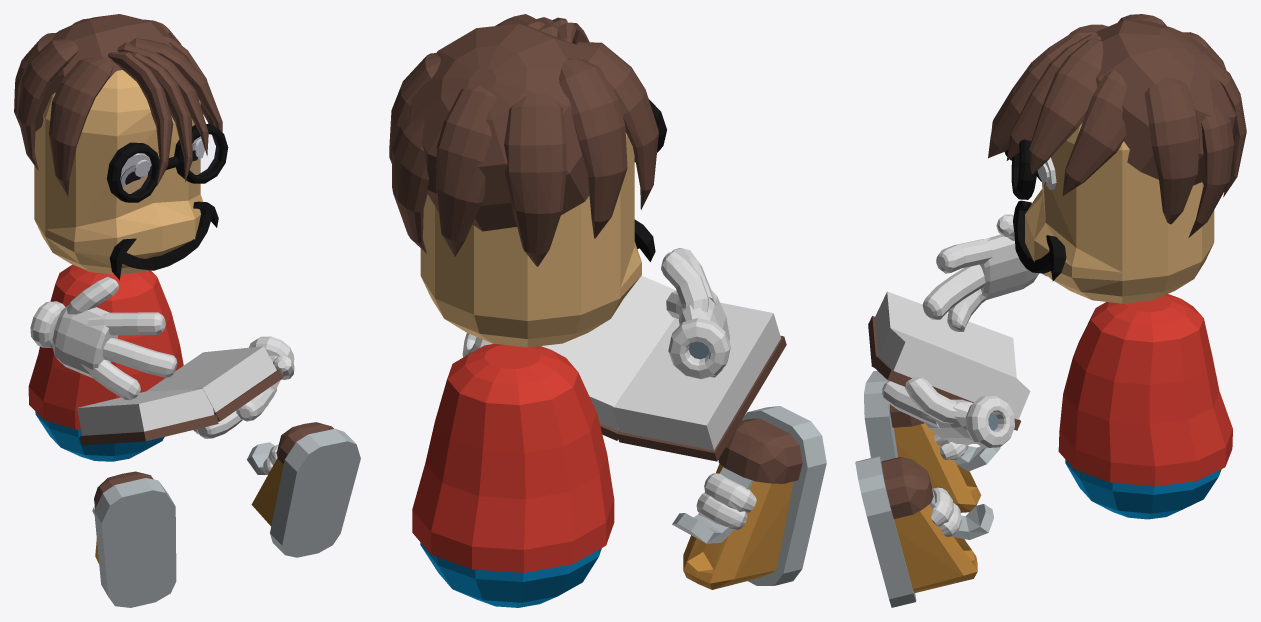
3 renders of one model, left to right at view 1: azimuth 30°, elevation 25°; view 2: azimuth 150°, elevation 25°; view 3: azimuth 270°, elevation 25°, orthographic. The views are drawn at different scales.
Visible parts, largest first — view 1: node_MeshObject475902592-PolyPaper20, node_MeshObject1513342720-PolyPaper20; view 2: node_MeshObject475902592-PolyPaper20, node_MeshObject1513342720-PolyPaper20; view 3: node_MeshObject475902592-PolyPaper20, node_MeshObject1513342720-PolyPaper20.
Part boxes in pixels (box(x1,y1,x2,y2)): node_MeshObject475902592-PolyPaper20: box(14, 14, 294, 461); node_MeshObject1513342720-PolyPaper20: box(34, 42, 360, 607); node_MeshObject475902592-PolyPaper20: box(389, 14, 786, 607); node_MeshObject1513342720-PolyPaper20: box(392, 17, 826, 589); node_MeshObject475902592-PolyPaper20: box(868, 14, 1246, 519); node_MeshObject1513342720-PolyPaper20: box(855, 31, 1234, 607).
Size of the model in its own units: 0.6094 by 1.12 by 0.7406.
